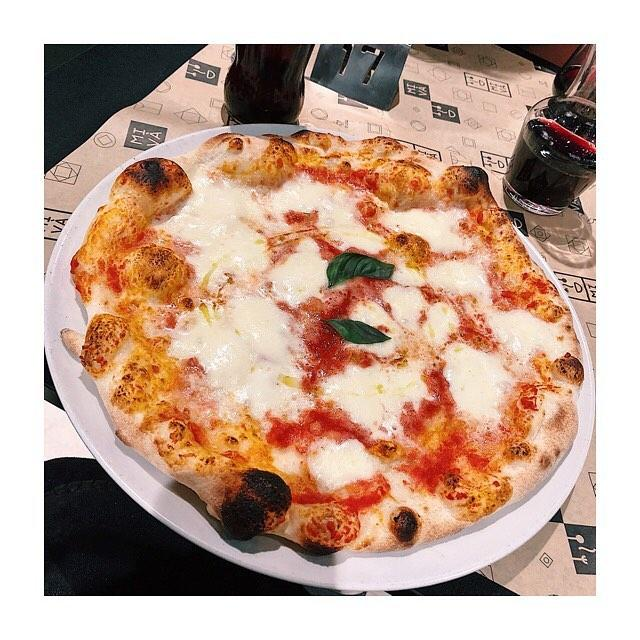basil: (321, 250, 397, 290), (323, 311, 395, 347)
pizza: (58, 127, 587, 559)
